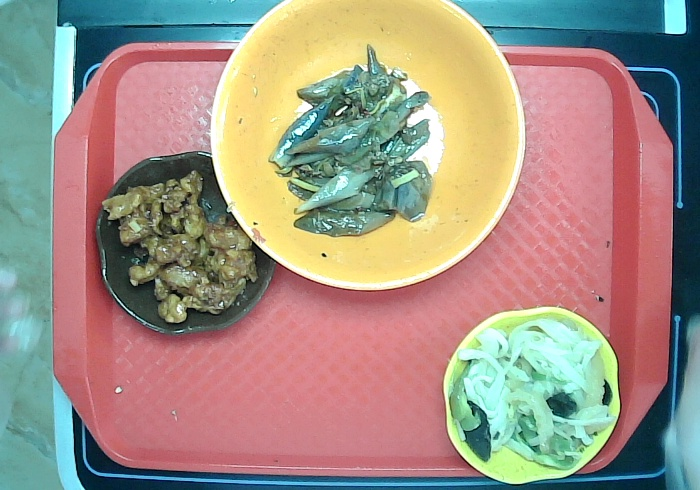YKMZ-Huang_Se_Ao_Bian_Wan: (442, 304, 625, 480)
YKMZ-Ju_Se_Tang_Wan: (207, 2, 528, 295)
YKMZ-Ka_Fei_Ao_Bian_Wan: (88, 145, 278, 332)
